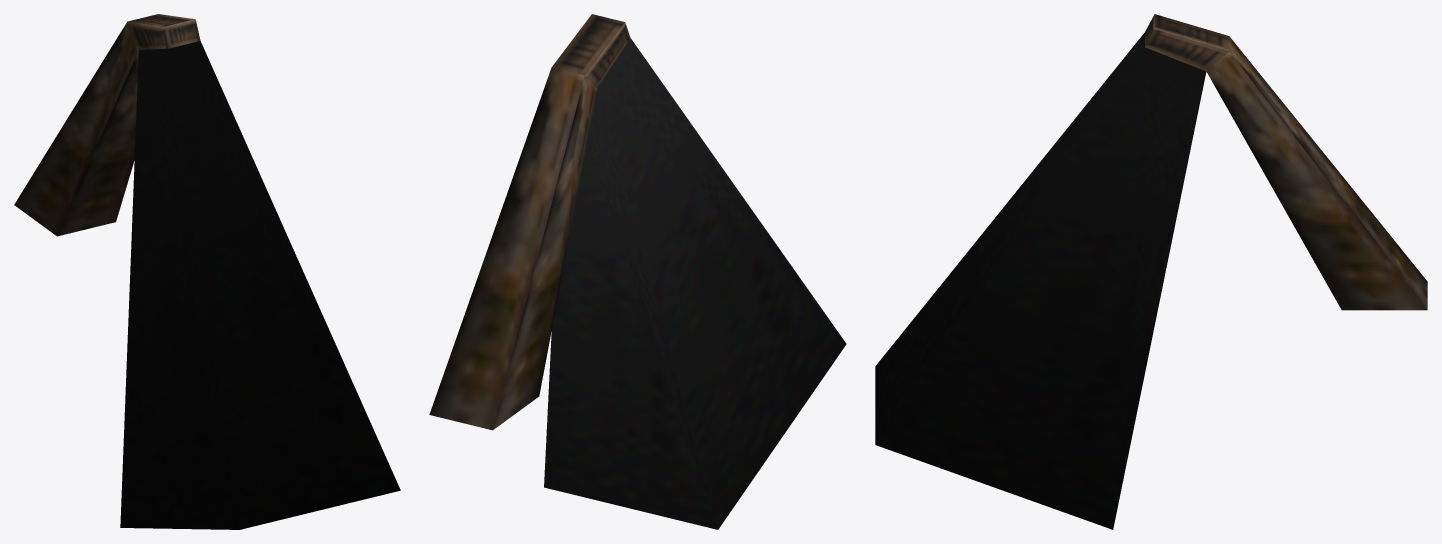
File: prop-045.glb
The picture shows the model from 3 angles, left to right: view 1: azimuth 30°, elevation 25°; view 2: azimuth 150°, elevation 25°; view 3: azimuth 270°, elevation 25°; orthographic projection. The views are drawn at different scales.
Parts seen in each view (by area): view 1: root; view 2: root; view 3: root.
Part boxes in pixels (<box>): root: <box>14,14,400,529</box>; root: <box>429,14,846,529</box>; root: <box>875,14,1427,529</box>.
Size of the model in its own units: 0.7441 by 2.07 by 2.21.
Materials: 1 (1 with a texture image).
